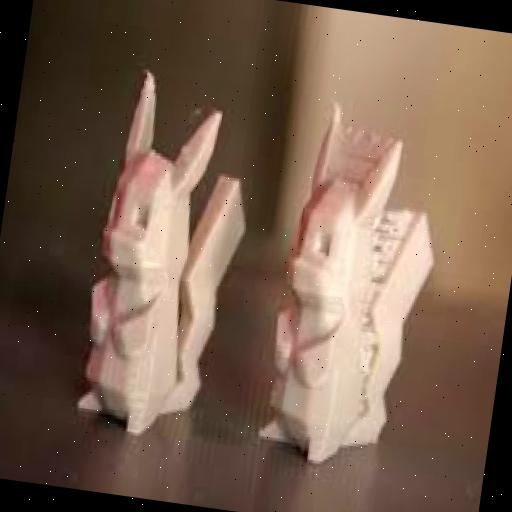stringing: (356, 209, 422, 416), (330, 114, 381, 179)
